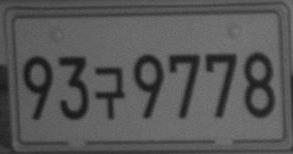3: (58, 55, 89, 119)
7: (205, 53, 237, 117), (169, 54, 200, 118)
8: (243, 51, 275, 118)
9: (22, 55, 53, 120), (133, 53, 164, 118)
구: (95, 67, 125, 119)
